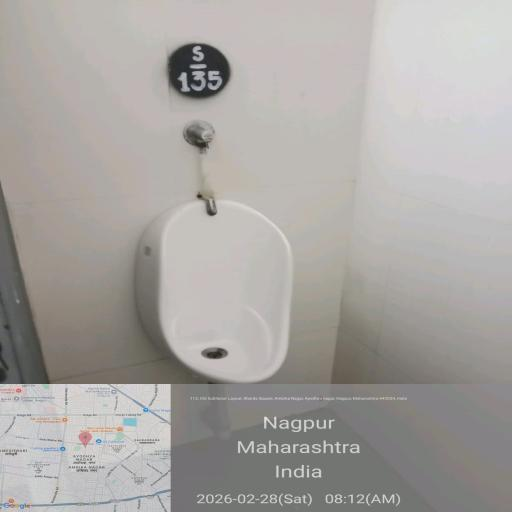clean_floor: (43, 54, 462, 162)
clean_urinal: (137, 182, 323, 392)
